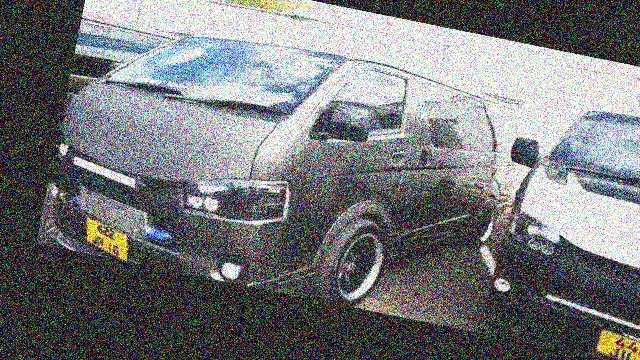van: (38, 1, 539, 333)
